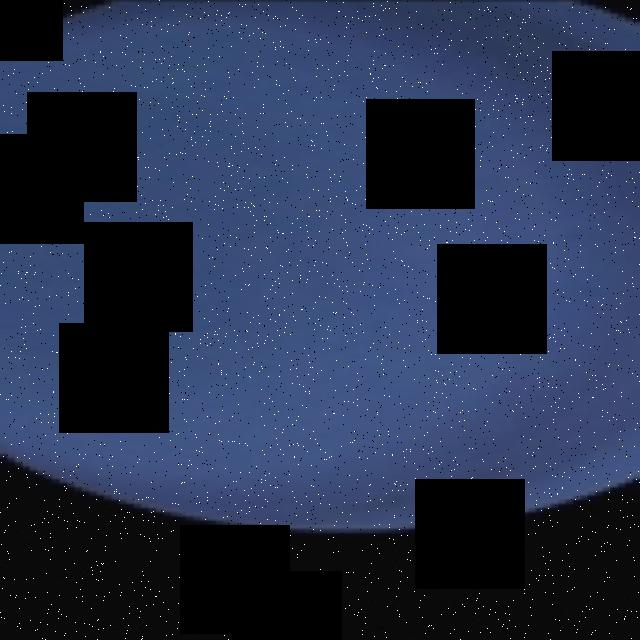Neptune: (0, 0, 640, 532)
